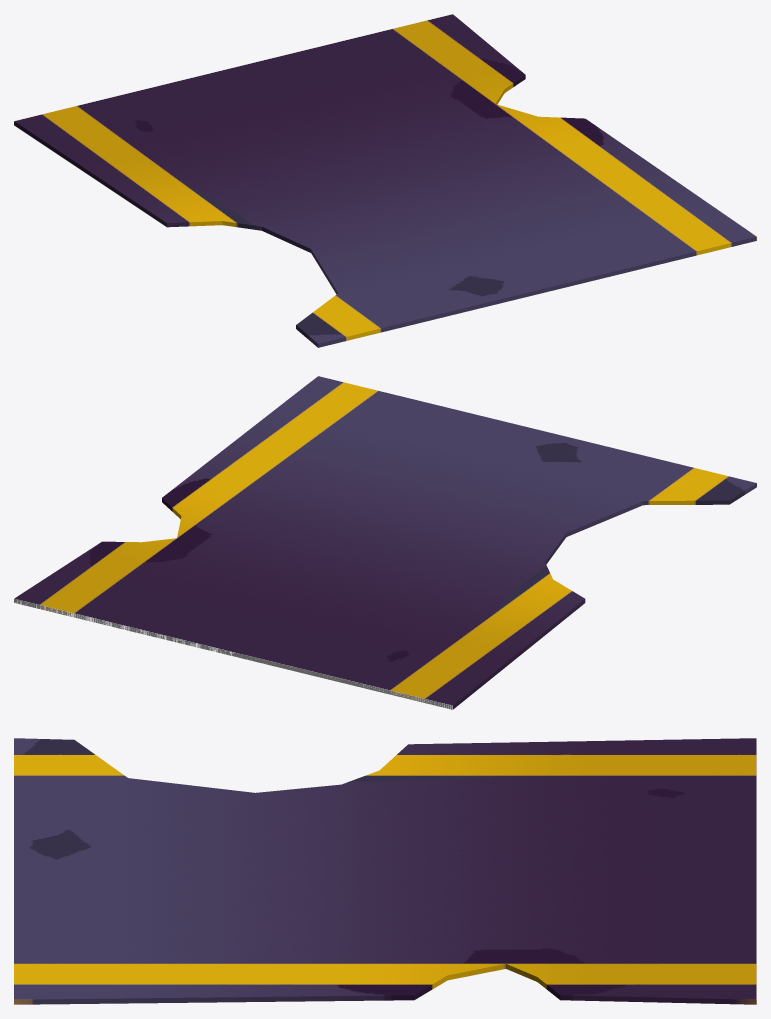
The model's file is Carpet 01 Center 02.fbx.
3 renders of one model, top to bottom at view 1: azimuth 30°, elevation 25°; view 2: azimuth 150°, elevation 25°; view 3: azimuth 270°, elevation 25°, orthographic. The views are drawn at different scales.
Visible parts, largest first — view 1: Carpet 01 Center 02; view 2: Carpet 01 Center 02; view 3: Carpet 01 Center 02.
Boxes of the visible parts, bbox=[...] form: Carpet 01 Center 02: bbox=[14, 14, 756, 347]; Carpet 01 Center 02: bbox=[14, 376, 756, 709]; Carpet 01 Center 02: bbox=[14, 738, 756, 1004].
Size of the model in its own units: 167 by 1.5 by 200.
